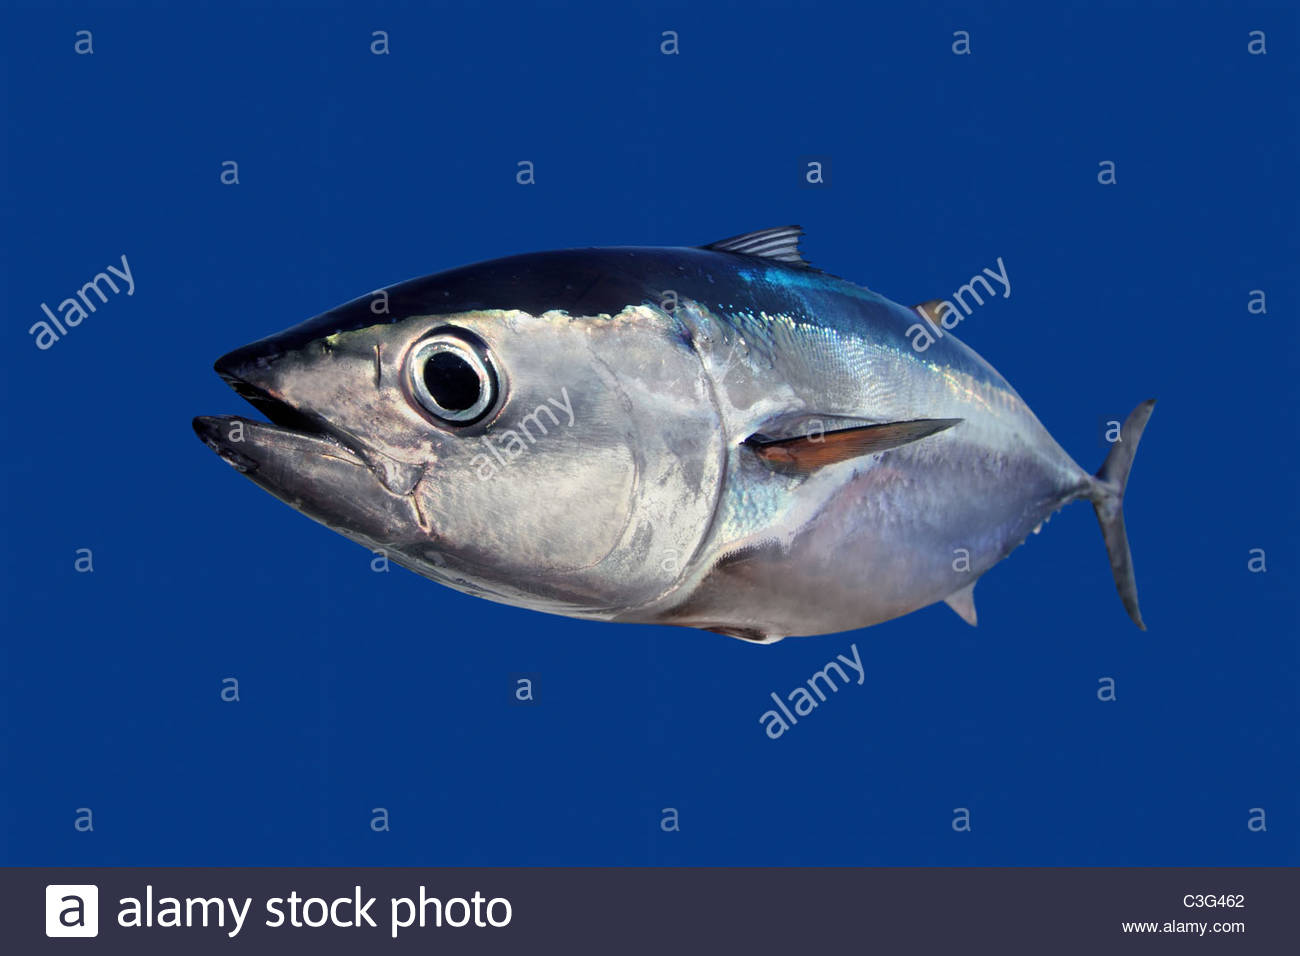Bluefina Tuna: (192, 215, 1157, 661)
